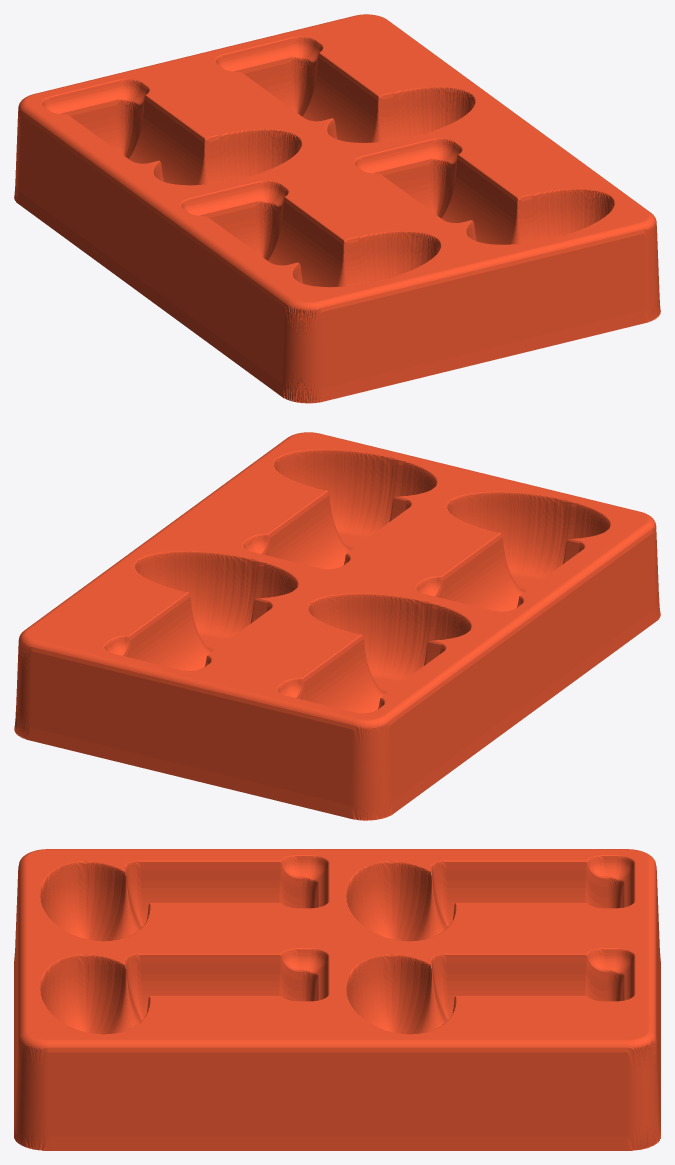
File: mold.glb
The picture shows the model from 3 angles, top to bottom: view 1: azimuth 30°, elevation 25°; view 2: azimuth 150°, elevation 25°; view 3: azimuth 270°, elevation 25°; orthographic projection. The views are drawn at different scales.
Parts seen in each view (by area): view 1: geometry_0; view 2: geometry_0; view 3: geometry_0.
Boxes of the visible parts, left/top/right/bottom form: geometry_0: left=14, top=14, right=660, bottom=403; geometry_0: left=14, top=432, right=660, bottom=820; geometry_0: left=14, top=849, right=660, bottom=1150.
Size of the model in its own units: 0.1266 by 0.031 by 0.1721.
